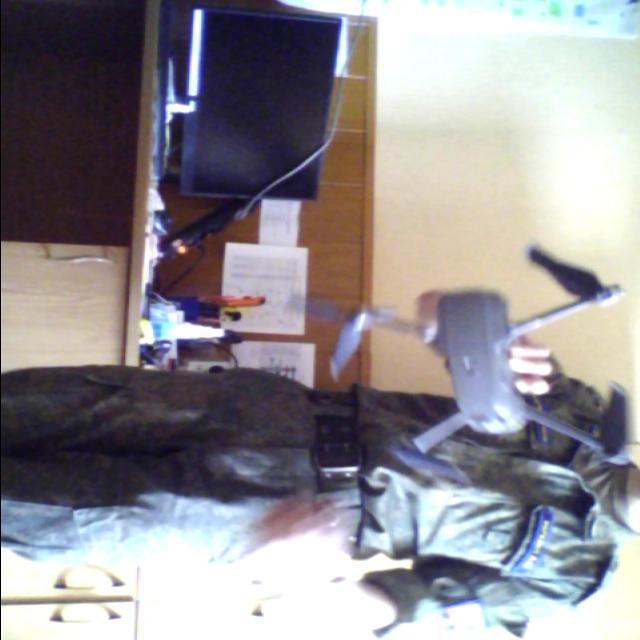drone: (344, 254, 640, 496)
